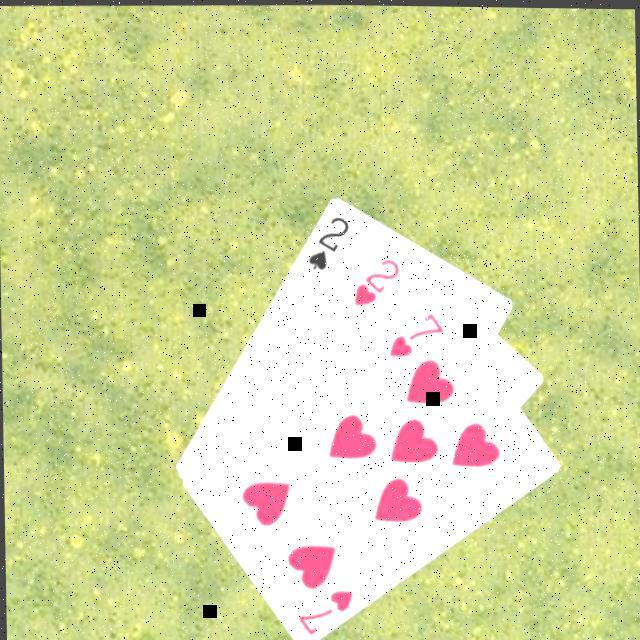2H: (350, 251, 404, 307)
2S: (304, 209, 353, 272)
7H: (294, 582, 357, 636), (386, 306, 448, 359)
